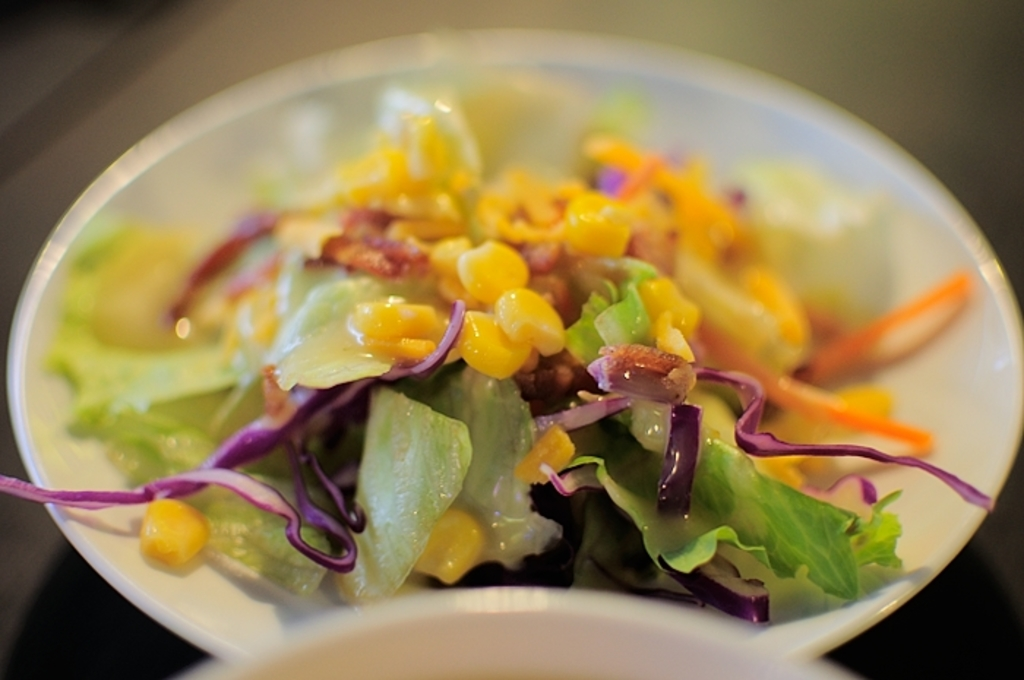salad: (6, 75, 982, 633)
